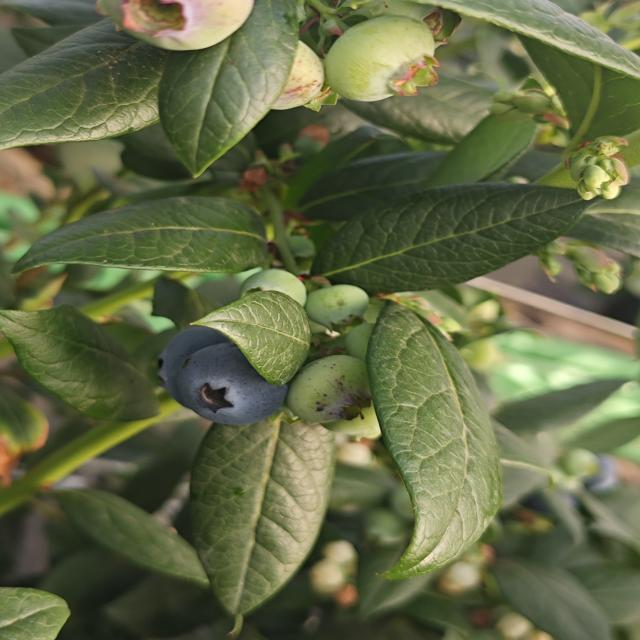ripe: (158, 322, 290, 423)
